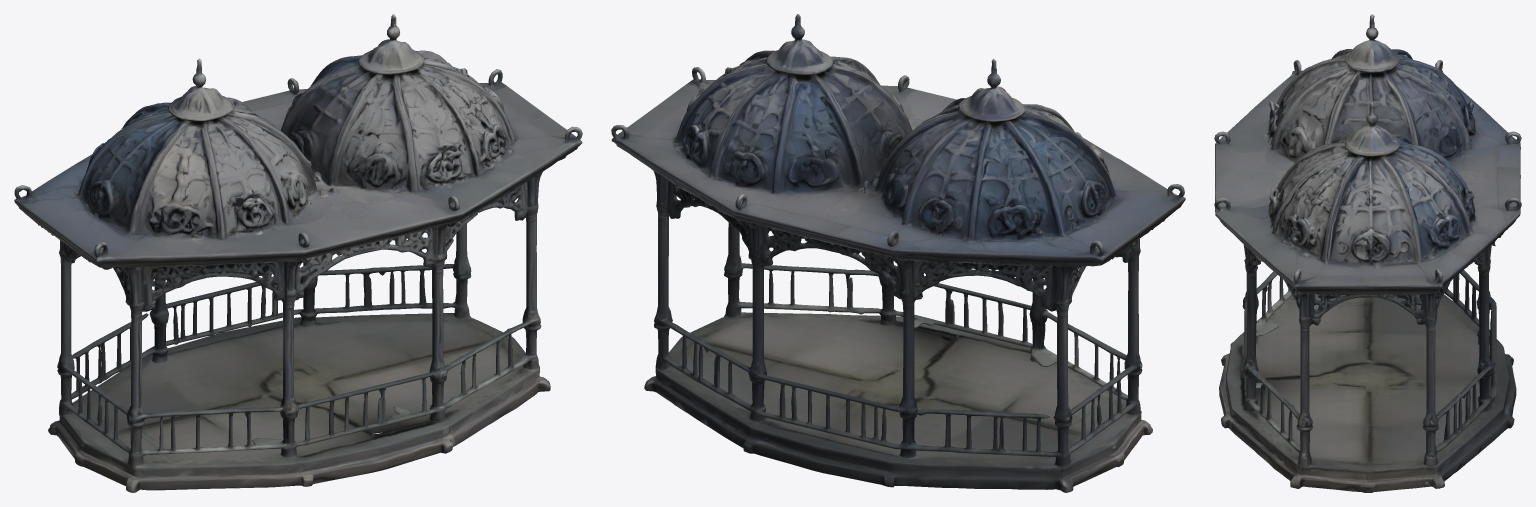
Rendered from plaza-bandstand-ornate.glb.
3 renders of one model, left to right at view 1: azimuth 30°, elevation 25°; view 2: azimuth 150°, elevation 25°; view 3: azimuth 270°, elevation 25°, orthographic. The views are drawn at different scales.
Parts seen in each view (by area): view 1: tripo_node_277ef3df-05ec-4df0-912a-bb45dda9dbf0; view 2: tripo_node_277ef3df-05ec-4df0-912a-bb45dda9dbf0; view 3: tripo_node_277ef3df-05ec-4df0-912a-bb45dda9dbf0.
Boxes of the visible parts, box(x1,y1,x2,y2) form: tripo_node_277ef3df-05ec-4df0-912a-bb45dda9dbf0: box(14, 14, 582, 492); tripo_node_277ef3df-05ec-4df0-912a-bb45dda9dbf0: box(611, 14, 1185, 492); tripo_node_277ef3df-05ec-4df0-912a-bb45dda9dbf0: box(1214, 14, 1521, 492).
Size of the model in its own units: 8.15 by 6 by 4.92.
1 material, 1 textured.
